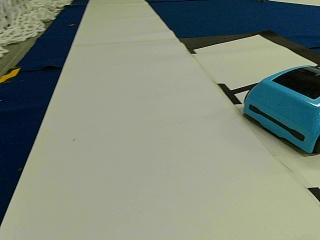car: (243, 63, 318, 154)
